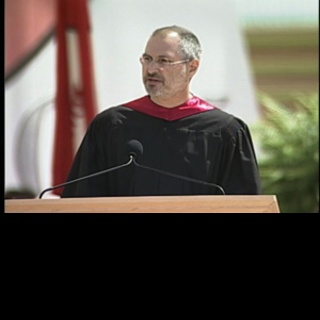without_mask: (141, 30, 190, 97)
